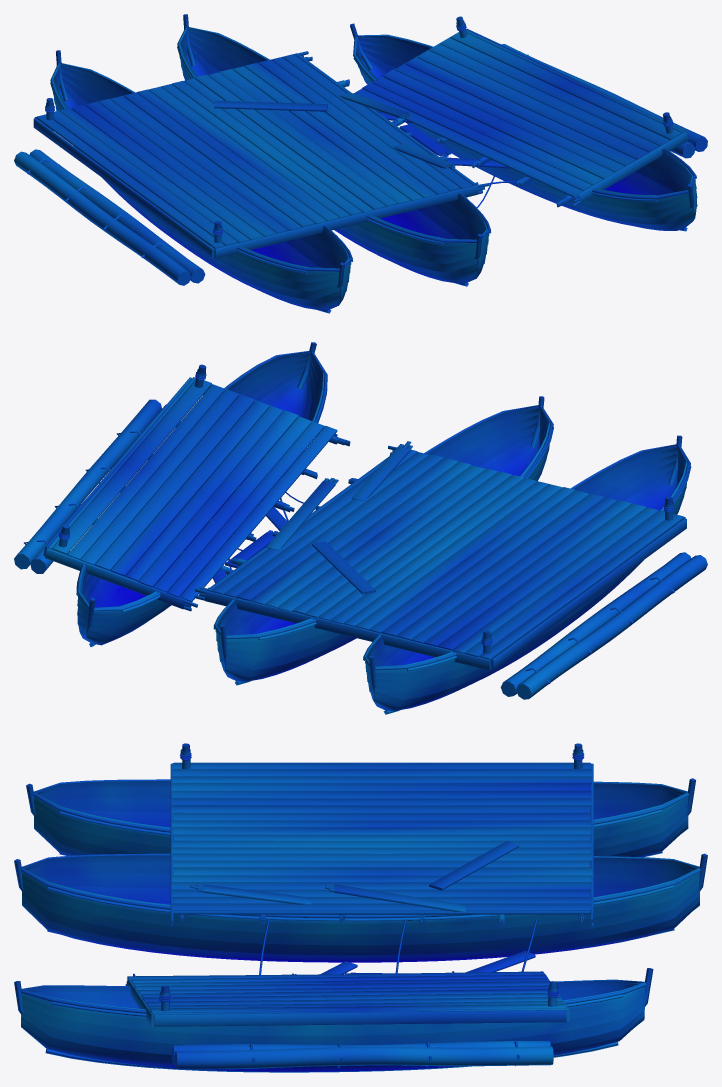
Rendered from raft_deck_broken.glb.
3 renders of one model, top to bottom at view 1: azimuth 30°, elevation 25°; view 2: azimuth 150°, elevation 25°; view 3: azimuth 270°, elevation 25°, orthographic. The views are drawn at different scales.
Visible parts, largest first — view 1: raft_deck_broken; view 2: raft_deck_broken; view 3: raft_deck_broken.
Part boxes in pixels (x1=…): raft_deck_broken: x1=14, y1=14, x2=707, y2=313; raft_deck_broken: x1=14, y1=342, x2=707, y2=714; raft_deck_broken: x1=14, y1=743, x2=707, y2=1072.
Size of what is drawn, in the model's own units: 11.94 by 2.29 by 11.67.
